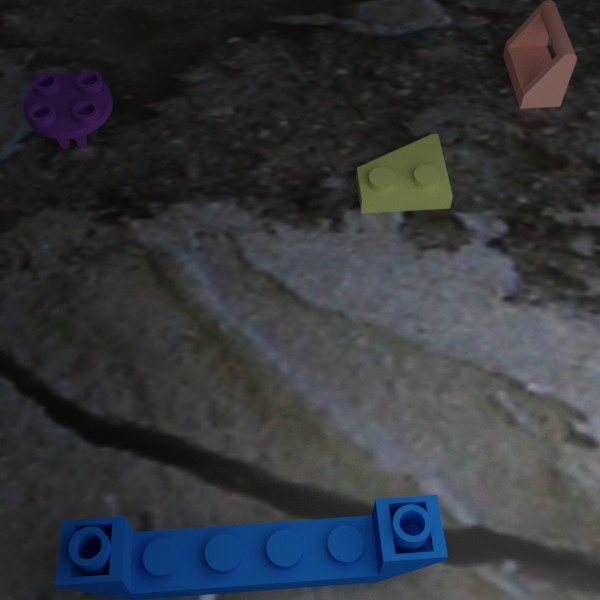lego: (55, 494, 447, 600), (502, 0, 576, 108), (355, 133, 452, 213), (23, 70, 112, 148)
